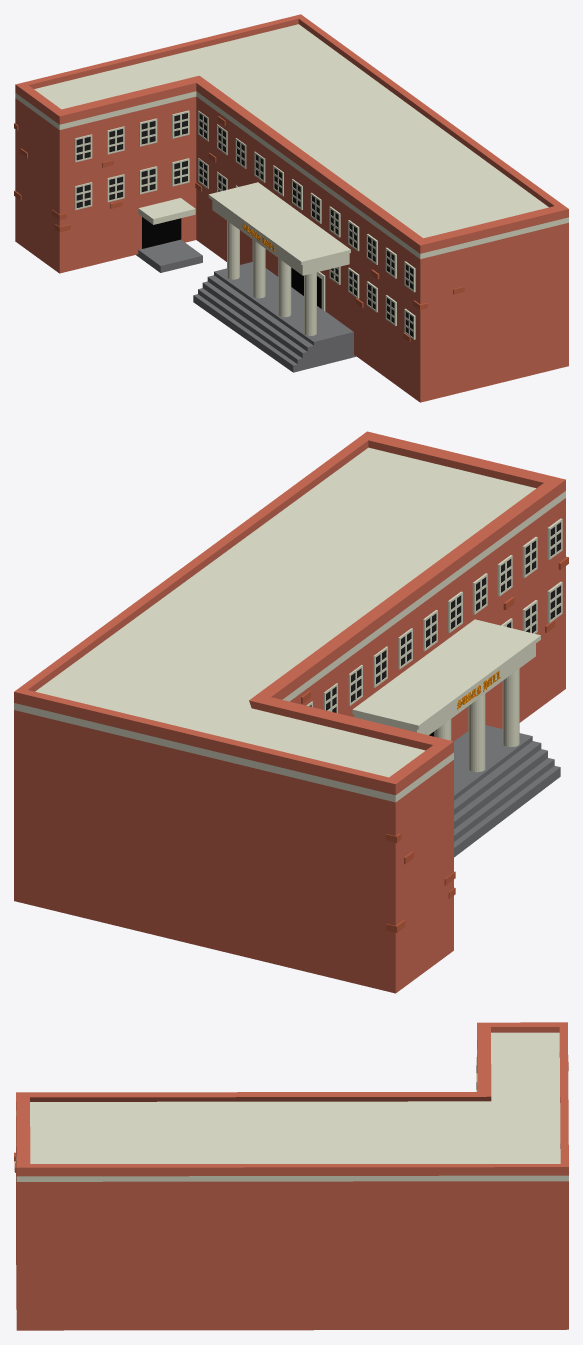
Rendered from Susan Hall.fbx.
3 views of the same model, one above another, from view 1: azimuth 30°, elevation 25°; view 2: azimuth 150°, elevation 25°; view 3: azimuth 270°, elevation 25° (orthographic). The views are drawn at different scales.
Parts seen in each view (by area): view 1: Stairs_Susan; view 2: Stairs_Susan; view 3: Stairs_Susan.
Part boxes in pixels (x1,y1,x2,y2): Stairs_Susan: [14, 14, 568, 402]; Stairs_Susan: [14, 431, 568, 993]; Stairs_Susan: [14, 1022, 568, 1330].
Size of the model in its own units: 282 by 149 by 453.
